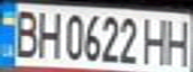0: (60, 9, 84, 61)
2: (118, 12, 142, 65), (100, 11, 121, 64)
6: (81, 10, 103, 62)
B: (6, 6, 42, 58)
H: (139, 15, 172, 66), (33, 7, 63, 60), (163, 15, 193, 67)
